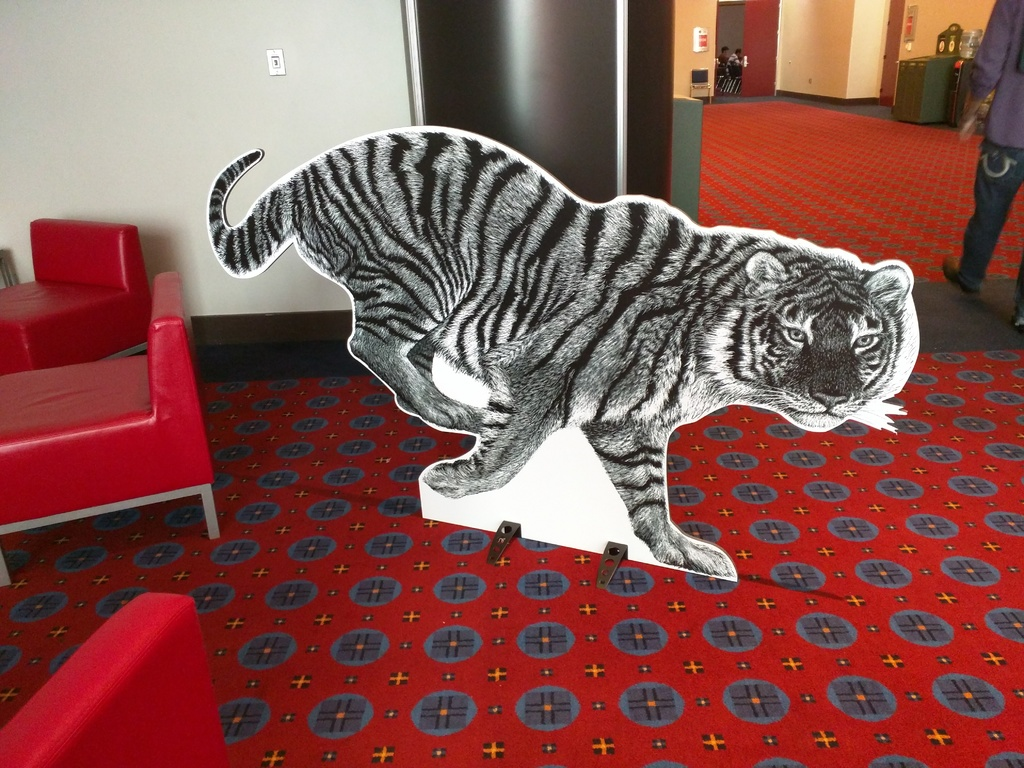Chair: (0, 271, 222, 590), (0, 591, 227, 767), (689, 63, 712, 103), (715, 61, 742, 95)
